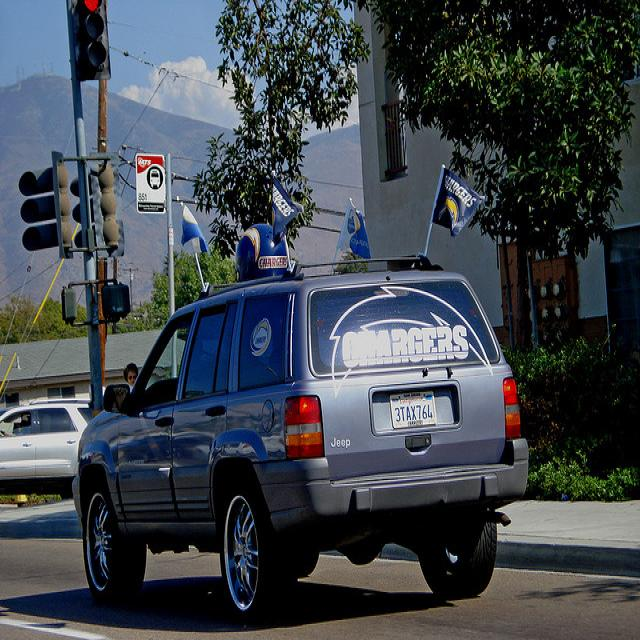Vehicle: (72, 256, 530, 623), (0, 399, 91, 501)
